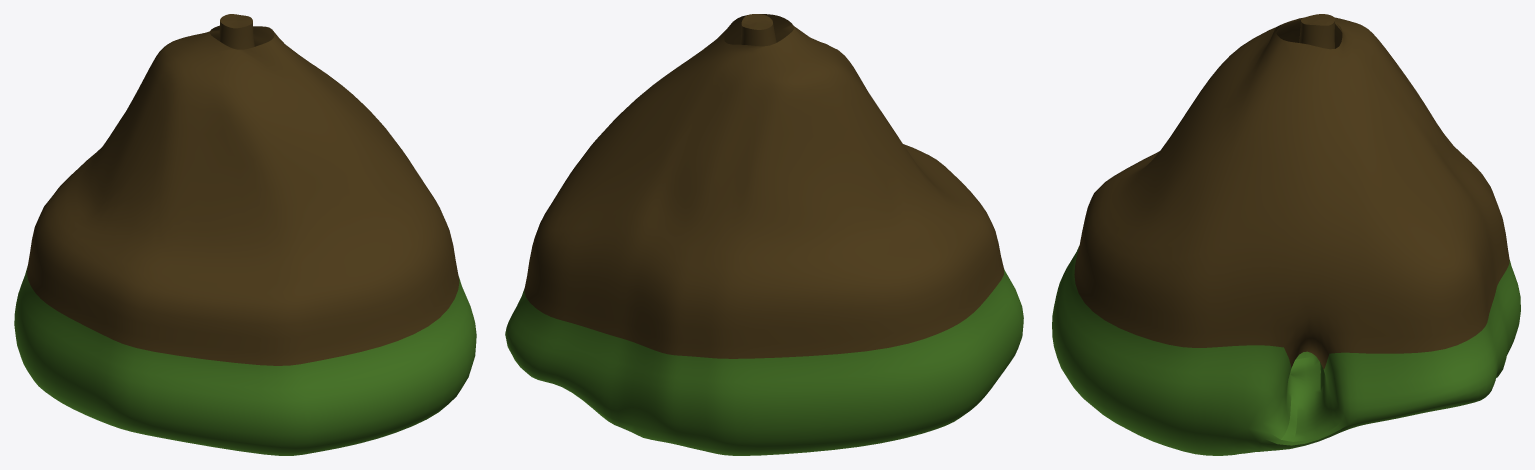
File: LakeMazeIsland.fbx
3 renders of one model, left to right at view 1: azimuth 30°, elevation 25°; view 2: azimuth 150°, elevation 25°; view 3: azimuth 270°, elevation 25°, orthographic. The views are drawn at different scales.
Visible parts, largest first — view 1: LakeMazeIsland; view 2: LakeMazeIsland; view 3: LakeMazeIsland.
Boxes of the visible parts, x1,y1,x2,y2 form: LakeMazeIsland: (14, 14, 476, 455); LakeMazeIsland: (505, 14, 1023, 455); LakeMazeIsland: (1052, 14, 1520, 455).
Bounding box in the file's own units: 130 × 120 × 133.
